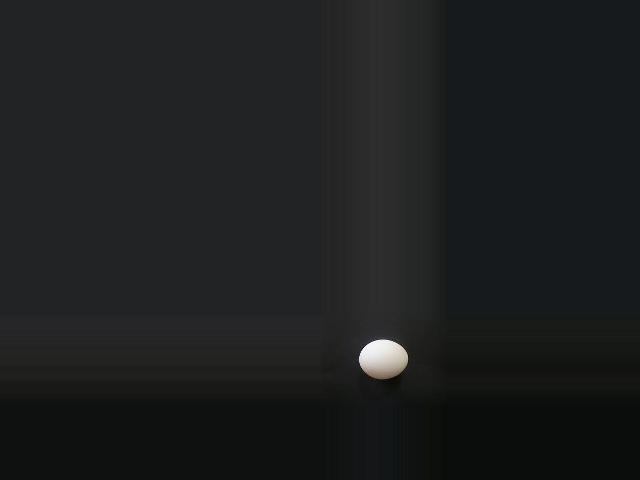egg: (360, 339, 409, 379)
